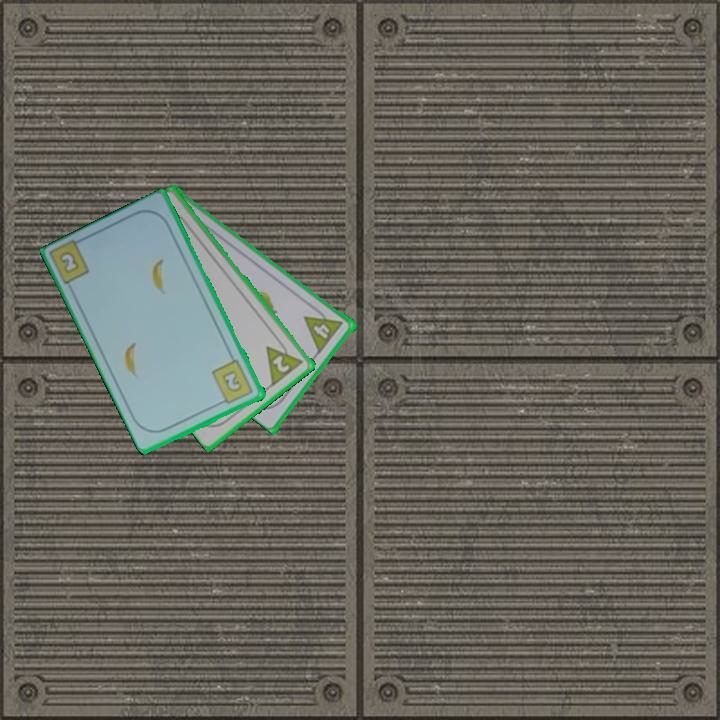2b: (209, 356, 257, 407), (56, 248, 82, 277)
2p: (262, 335, 307, 388)
4p: (301, 315, 336, 354)
